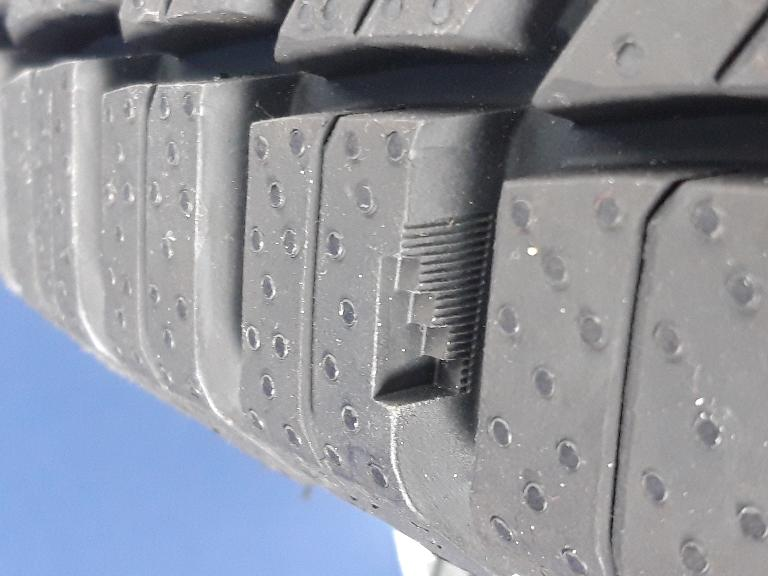temoin:100: (362, 205, 501, 419)
